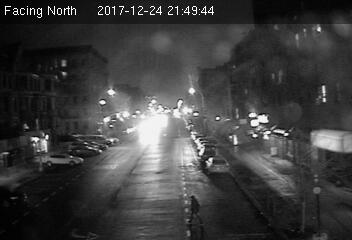car: (203, 155, 229, 174)
pedestrian: (185, 195, 206, 225)
